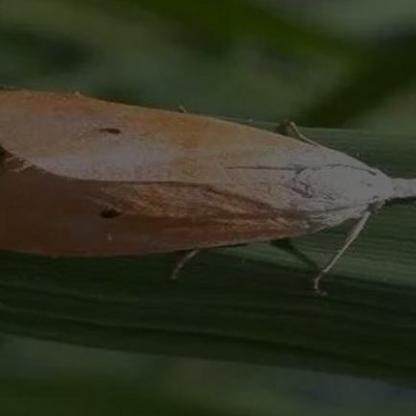stem-borer: (0, 87, 416, 266)
